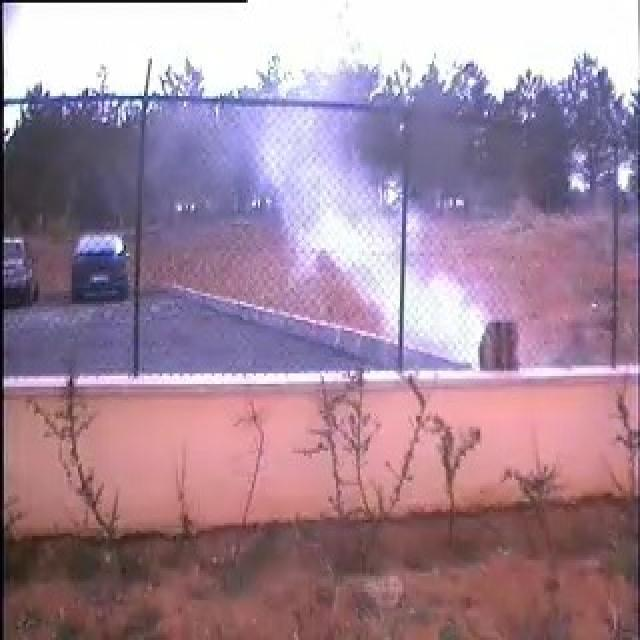Smoke: (253, 99, 524, 371)
